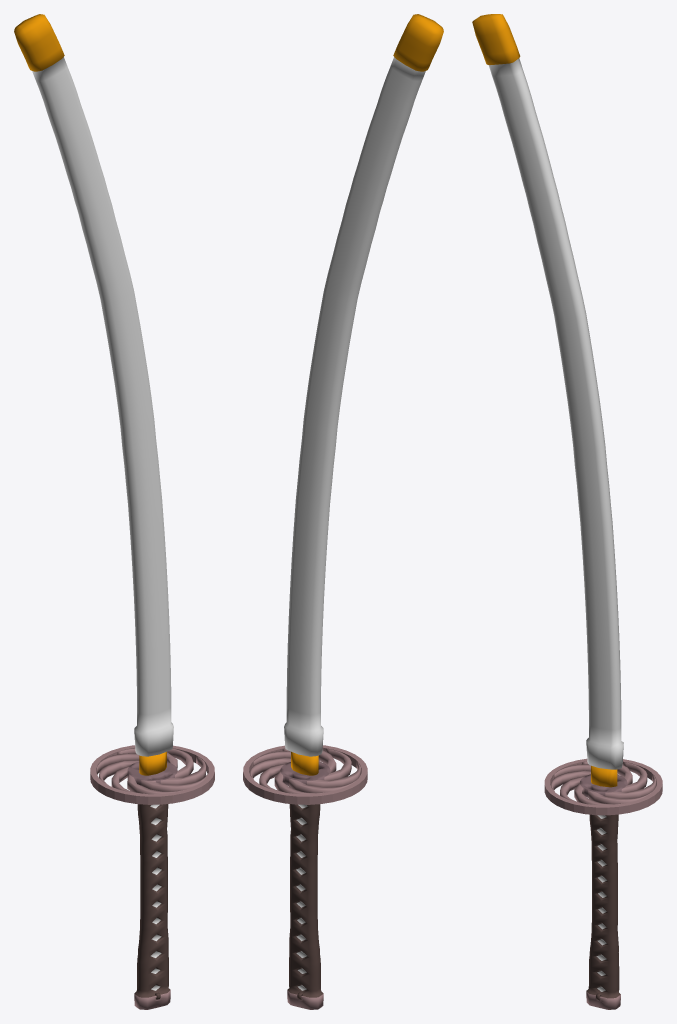
The model's file is tsubaAndtsuka.fbx.
The picture shows the model from 3 angles, left to right: view 1: azimuth 30°, elevation 25°; view 2: azimuth 150°, elevation 25°; view 3: azimuth 330°, elevation 25°; orthographic projection. The views are drawn at different scales.
Visible parts, largest first — view 1: Cube.001, tsuka, tsuba, Cube; view 2: Cube.001, tsuka, tsuba, Cube; view 3: Cube.001, tsuka, tsuba, Cube.
Part boxes in pixels (bbox=[...]): Cube.001: bbox=[14, 14, 173, 756]; tsuka: bbox=[134, 804, 170, 1009]; tsuba: bbox=[90, 745, 214, 804]; Cube: bbox=[139, 751, 166, 775]; Cube.001: bbox=[284, 14, 443, 756]; tsuka: bbox=[287, 786, 323, 1009]; tsuba: bbox=[243, 745, 367, 804]; Cube: bbox=[291, 751, 318, 775]; Cube.001: bbox=[472, 14, 623, 769]; tsuka: bbox=[586, 814, 620, 1009]; tsuba: bbox=[544, 758, 662, 815]; Cube: bbox=[591, 765, 617, 787].
Bounding box in the file's own units: 5187 × 26340 × 2933.
